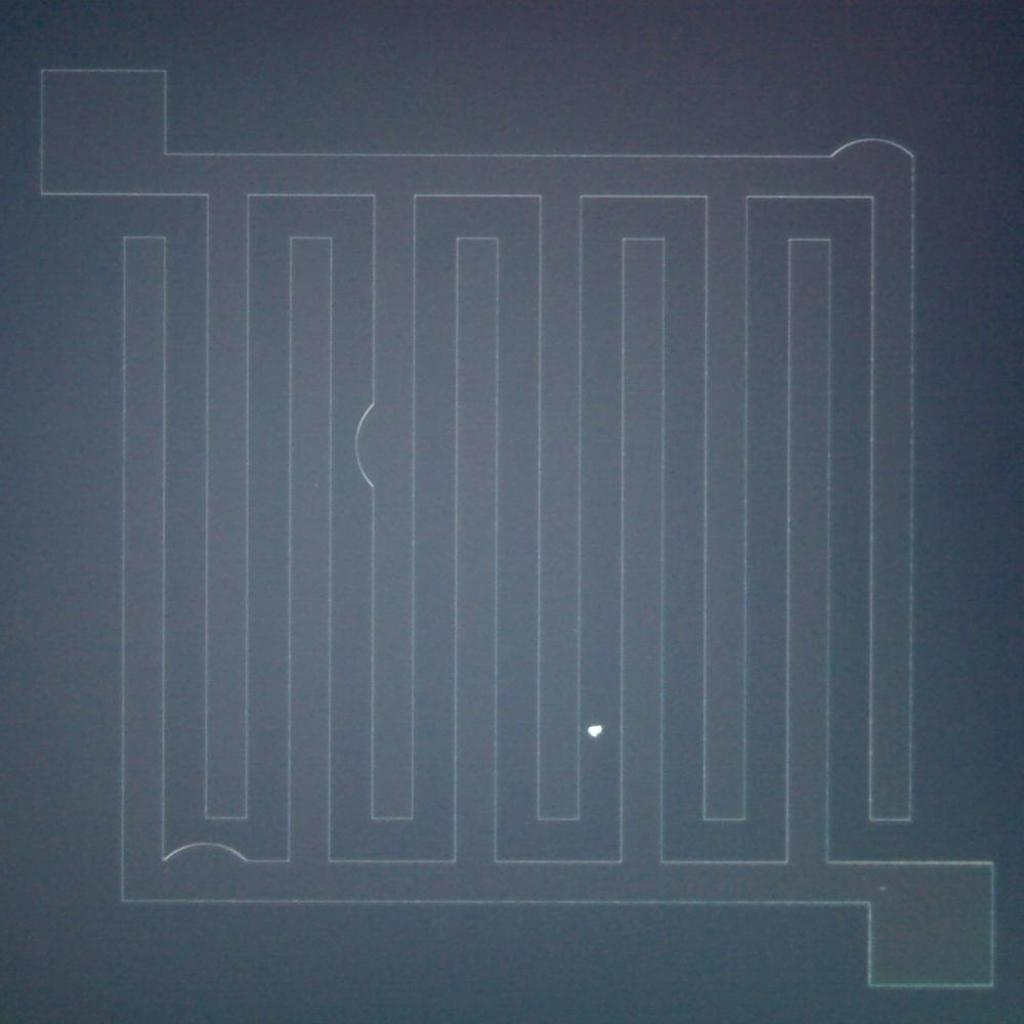dot: (588, 724, 602, 738), (880, 886, 886, 891)
